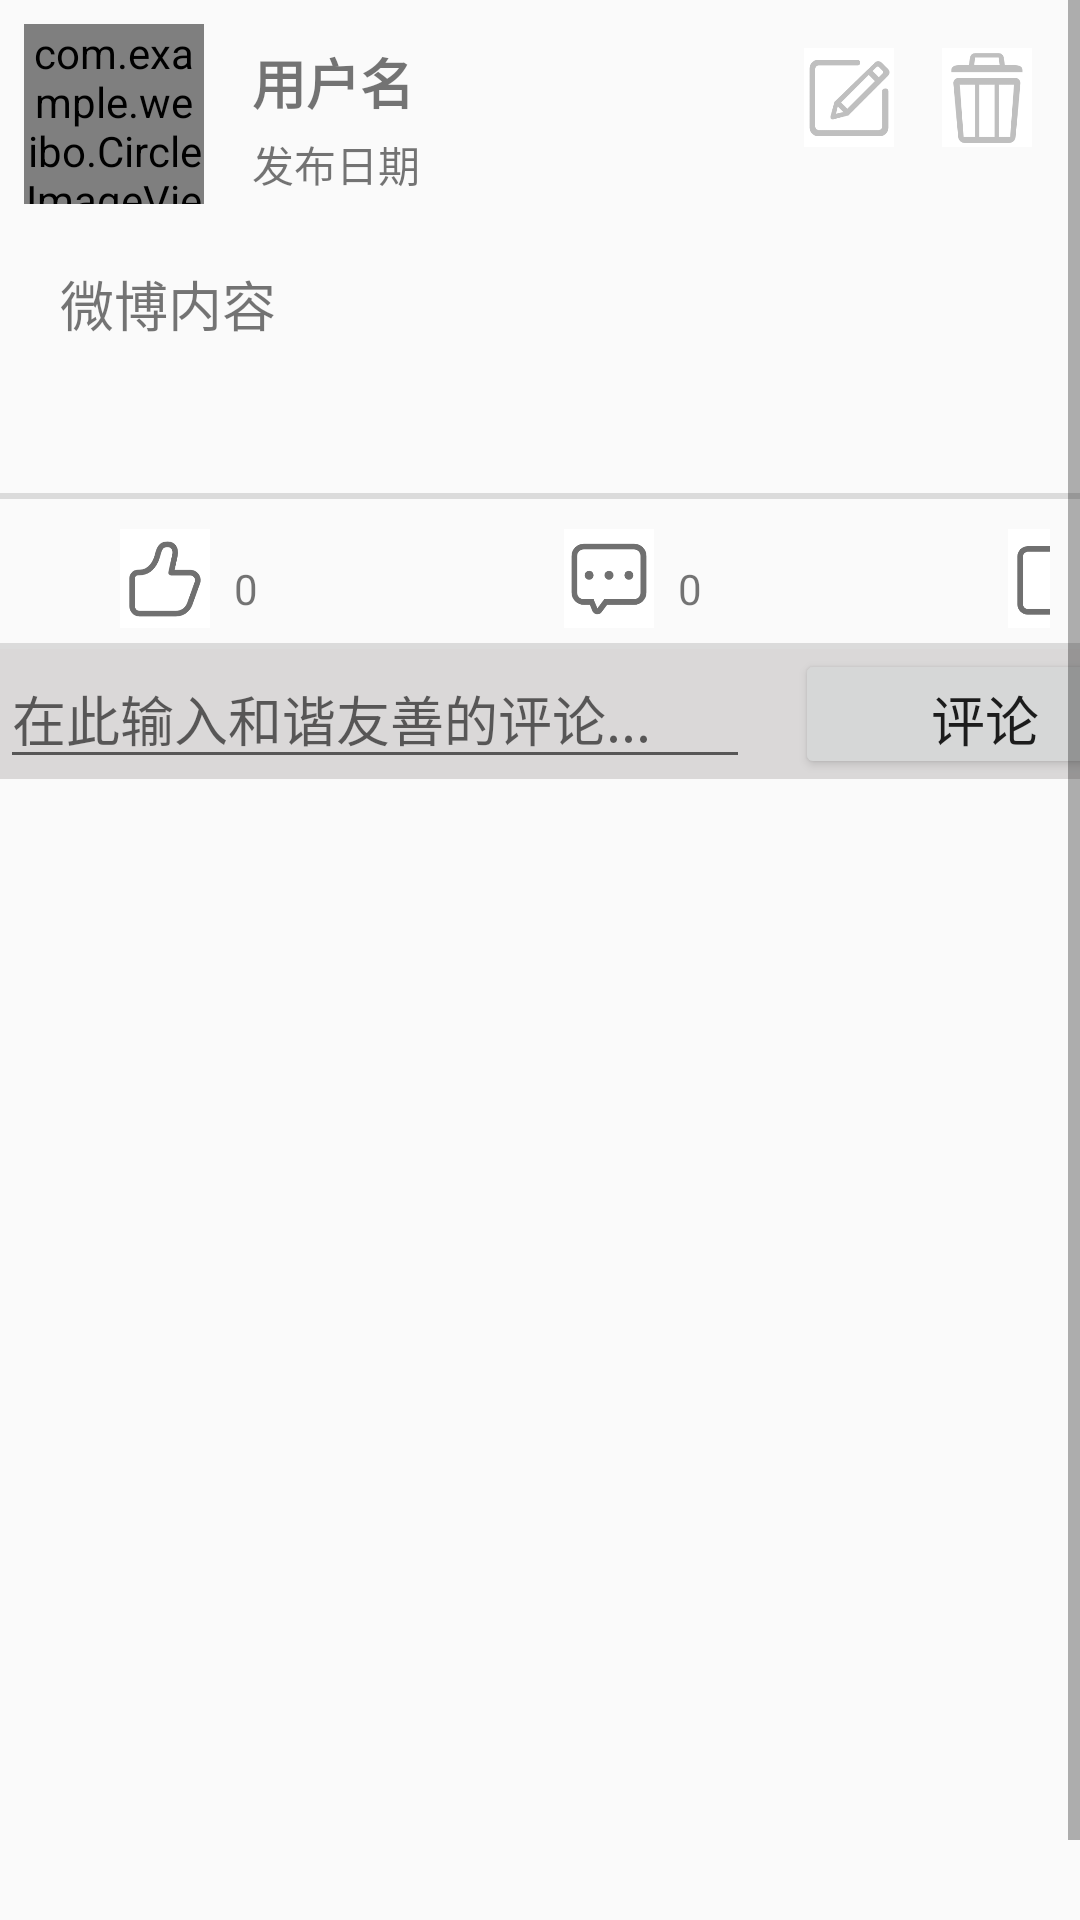

Icons on this 1080px×1920px Android screen, each with its box as (x1, y1, x2, y2):
applaud: (129, 541, 201, 617)
comment: (571, 544, 647, 614)
delete: (951, 53, 1023, 143)
edit: (810, 60, 890, 136)
